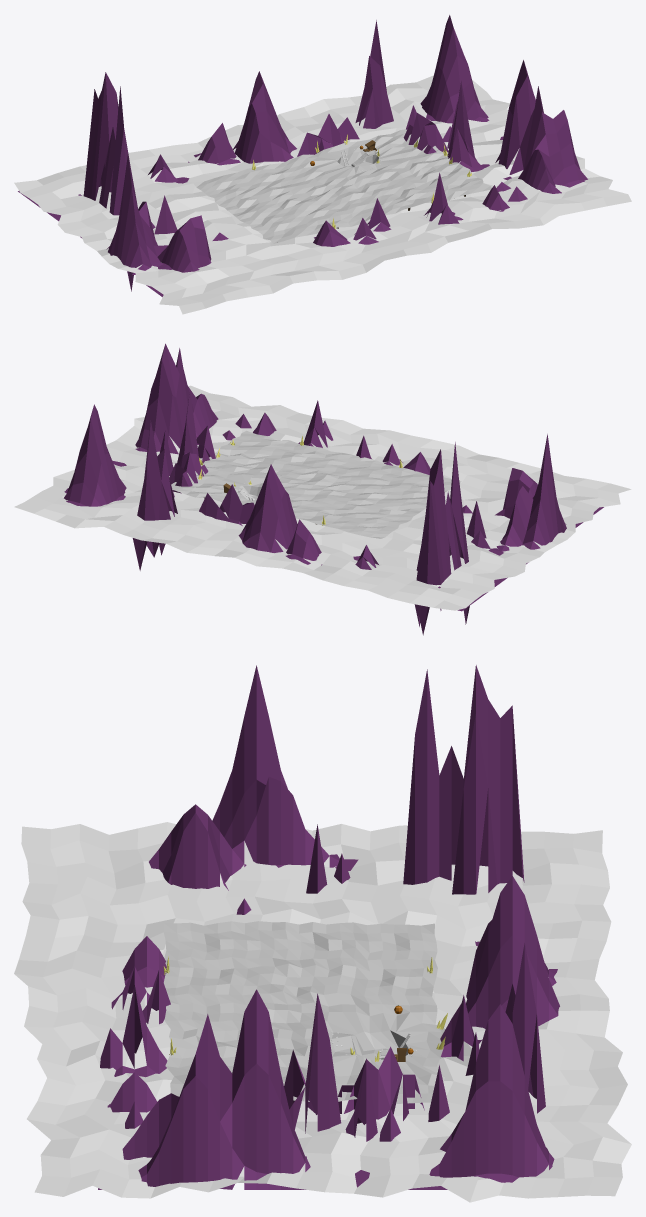
The model's file is Scenery3.FBX.
3 views of the same model, one above another, from view 1: azimuth 30°, elevation 25°; view 2: azimuth 150°, elevation 25°; view 3: azimuth 270°, elevation 25° (orthographic). The views are drawn at different scales.
Visible parts, largest first — view 1: Plane024, Plane025, Plane004; view 2: Plane024, Plane025, Plane004; view 3: Plane024, Plane025, Plane004.
Part boxes in pixels (bbox=[...]): Plane024: bbox=[14, 75, 631, 314]; Plane025: bbox=[18, 15, 587, 296]; Plane004: bbox=[193, 129, 491, 243]; Plane024: bbox=[14, 385, 631, 610]; Plane025: bbox=[64, 343, 603, 635]; Plane004: bbox=[171, 430, 461, 538]; Plane024: bbox=[14, 822, 631, 1202]; Plane025: bbox=[98, 665, 559, 1189]; Plane004: bbox=[163, 921, 444, 1103].
Size of the model in its own units: 7662 by 3143 by 5287.
